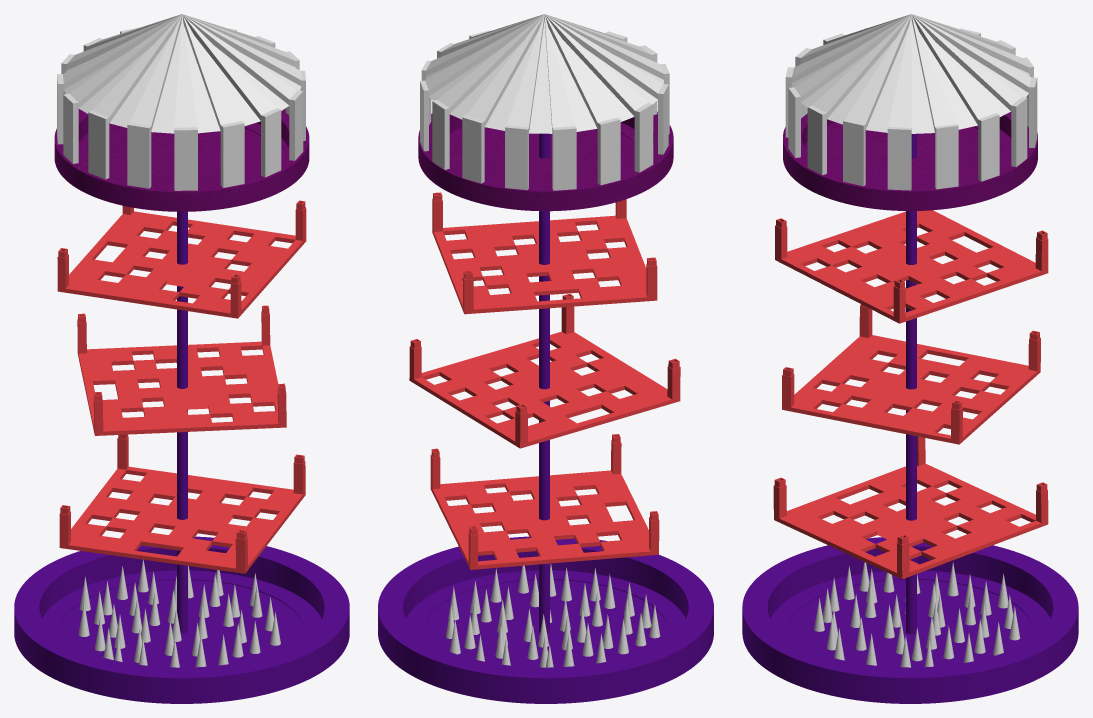
File: level1.fbx
The picture shows the model from 3 angles, left to right: view 1: azimuth 30°, elevation 25°; view 2: azimuth 150°, elevation 25°; view 3: azimuth 270°, elevation 25°; orthographic projection.
Parts seen in each view (by area): view 1: Cylinder.002, Cone.041, Cube.002, Cube.001, Cube, Cylinder.001, Cylinder; view 2: Cylinder.002, Cone.041, Cube, Cube.001, Cube.002, Cylinder.001, Cylinder; view 3: Cylinder.002, Cone.041, Cube, Cube.002, Cube.001, Cylinder.001, Cylinder.
Boxes of the visible parts, box(x1,y1,x2,y2) form: Cylinder.002: box(14, 536, 349, 703); Cone.041: box(57, 14, 305, 190); Cube.002: box(59, 434, 305, 573); Cube.001: box(57, 200, 306, 318); Cube: box(77, 305, 286, 435); Cylinder.001: box(54, 108, 309, 211); Cylinder: box(177, 211, 187, 633); Cylinder.002: box(378, 536, 713, 703); Cone.041: box(420, 14, 669, 190); Cube: box(409, 293, 680, 448); Cube.001: box(432, 192, 657, 314); Cube.002: box(430, 434, 659, 569); Cylinder.001: box(418, 111, 673, 211); Cylinder: box(539, 133, 549, 633); Cylinder.002: box(742, 537, 1078, 703); Cone.041: box(785, 14, 1037, 190); Cube: box(782, 304, 1040, 444); Cube.002: box(773, 436, 1048, 579); Cube.001: box(775, 210, 1048, 323); Cylinder.001: box(783, 112, 1037, 210); Cylinder: box(906, 133, 916, 634).
Bounding box in the file's own units: 17970 × 36537 × 17970.
